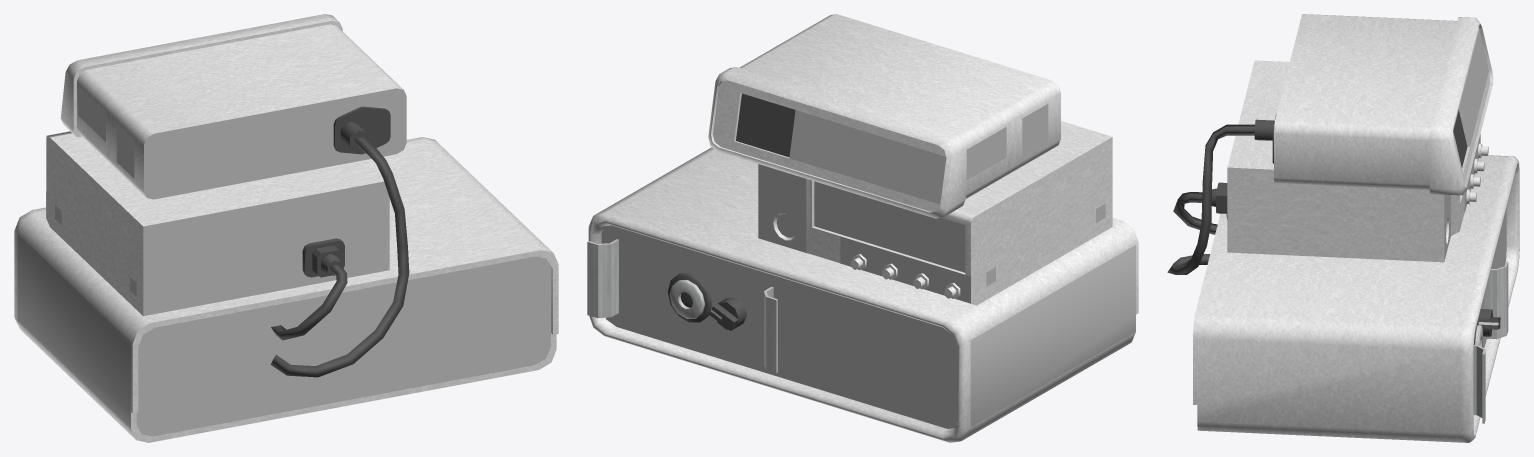
The model's file is ElectronicStuff.fbx.
3 renders of one model, left to right at view 1: azimuth 30°, elevation 25°; view 2: azimuth 150°, elevation 25°; view 3: azimuth 270°, elevation 25°, orthographic. The views are drawn at different scales.
Visible parts, largest first — view 1: ElectronicStuff; view 2: ElectronicStuff; view 3: ElectronicStuff.
Boxes of the visible parts, box(x1,y1,x2,y2) form: ElectronicStuff: box(14, 14, 558, 442); ElectronicStuff: box(587, 14, 1138, 442); ElectronicStuff: box(1167, 14, 1519, 442).
Bounding box in the file's own units: 41.62 × 26.06 × 31.32.
